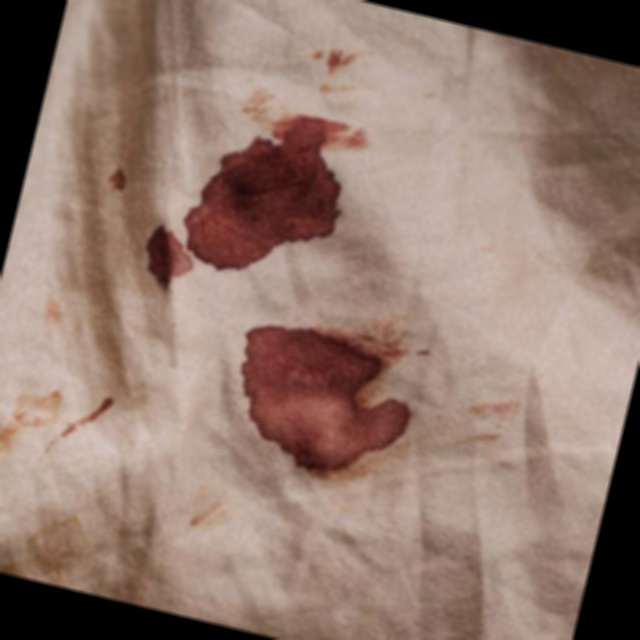blood: (135, 84, 368, 316), (220, 317, 419, 482)
